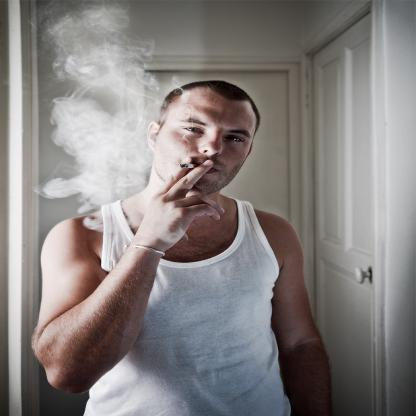smoking: (180, 164, 203, 168)
